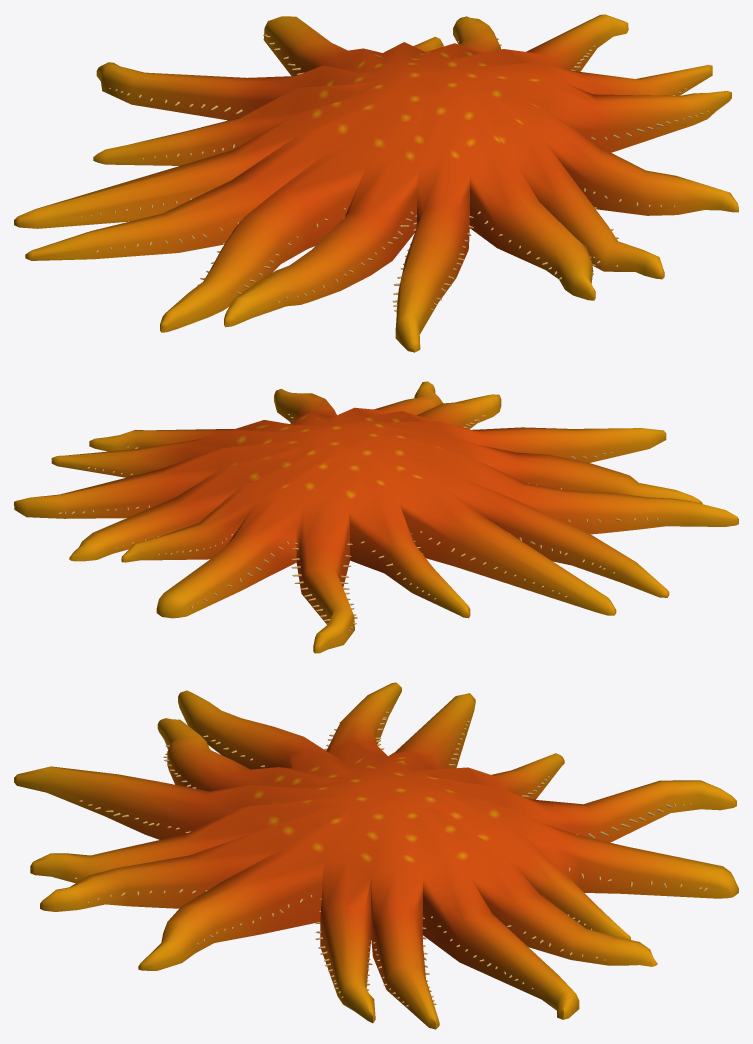
File: Sunflower Starfish Orange.fbx
The picture shows the model from 3 angles, top to bottom: view 1: azimuth 30°, elevation 25°; view 2: azimuth 150°, elevation 25°; view 3: azimuth 270°, elevation 25°; orthographic projection. The views are drawn at different scales.
Parts seen in each view (by area): view 1: Body, Spikes; view 2: Body, Spikes; view 3: Body, Spikes.
Part boxes in pixels (bbox=[...]): Body: bbox=[14, 14, 738, 352]; Spikes: bbox=[80, 34, 708, 311]; Body: bbox=[14, 381, 738, 653]; Spikes: bbox=[59, 414, 658, 636]; Body: bbox=[14, 682, 738, 1029]; Spikes: bbox=[74, 711, 707, 1006].
Size of the model in its own units: 416 by 49.07 by 373.
